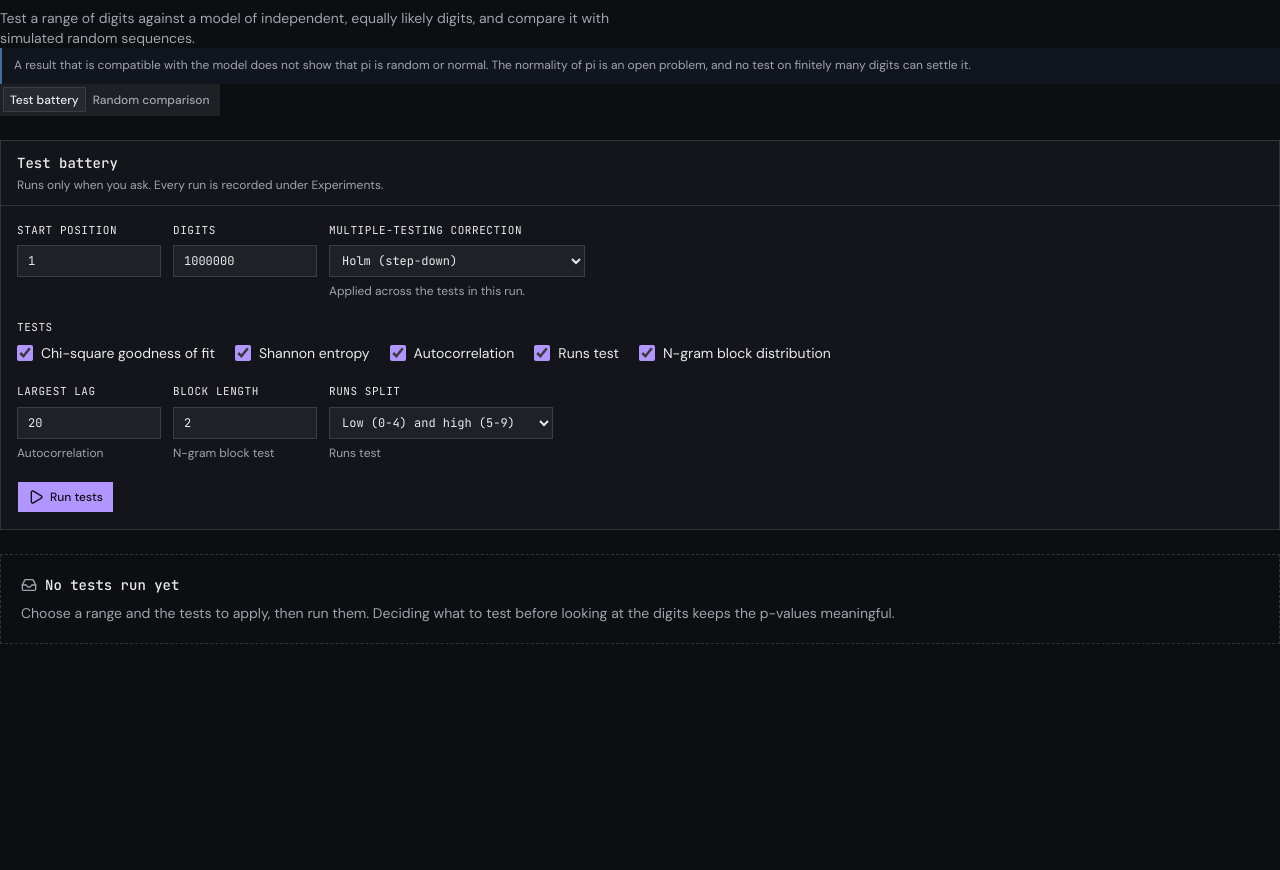
LabView test battery › runs the selected tests and shows each result with its interpretation
This screenshot has width=1280, height=870.
Click the button "Run tests".
click(66, 497)  # box [17,481,114,513]
(page scrolled)
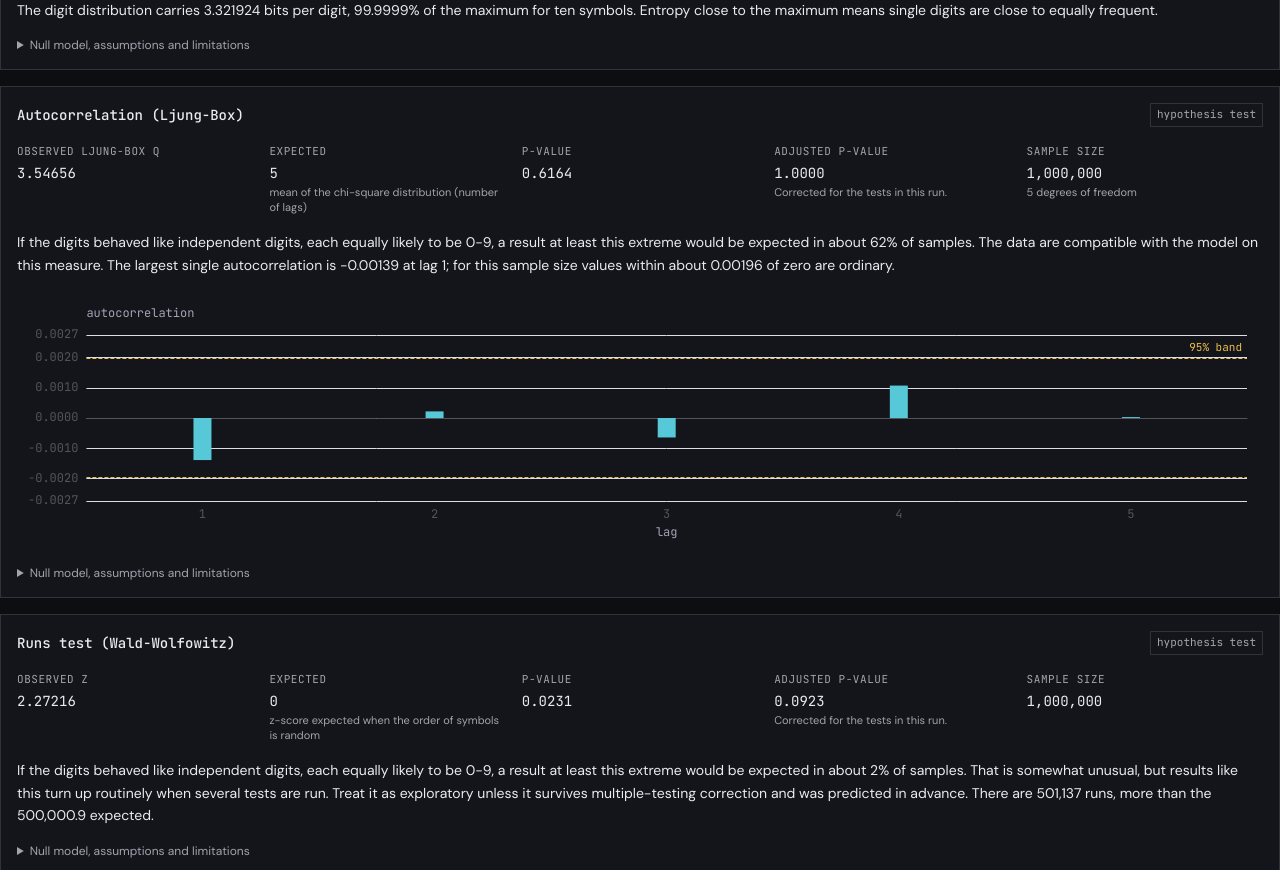
Check: the picture named "autocorrelation at each lag" is shown, box [17,293,1263,549]
